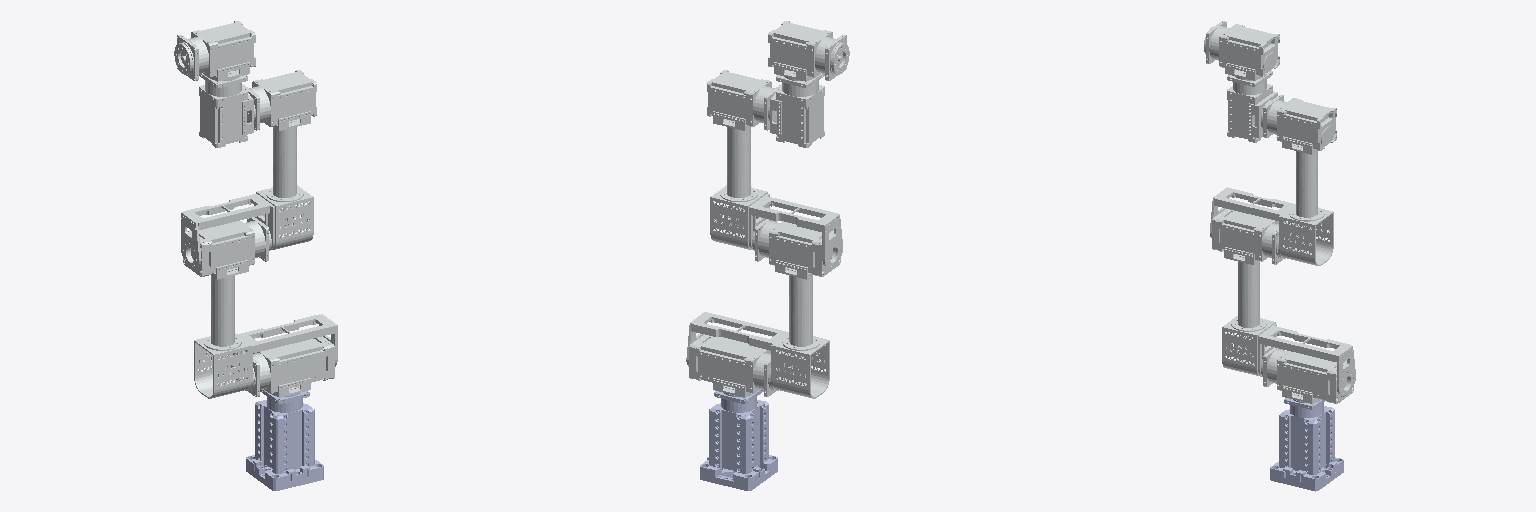
URDF robot description (single_arm_v11):
<?xml version="1.0"?>
<!-- This URDF was automatically created by SolidWorks to URDF Exporter! Originally created by [author] ([email redacted]) 
     Commit Version: 1.6.0-4-g7f85cfe  Build Version: 1.6.7995.38578
     For more information, please see http://wiki.ros.org/sw_urdf_exporter -->
<robot
  name="single_arm_v11">
  <link
    name="base_link">
    <inertial>
      <origin
        xyz="-0.00015625 -0.00020296 0.054397"
        rpy="0 0 0" />
      <mass
        value="0.47711" />
      <inertia
        ixx="0.00059036"
        ixy="3.555E-10"
        ixz="-4.1821E-06"
        iyy="0.00058997"
        iyz="-9.8398E-08"
        izz="0.00022102" />
    </inertial>
    <visual>
      <origin
        xyz="0 0 0"
        rpy="0 0 0" />
      <geometry>
        <mesh
          filename="package://single_arm_v11/single_arm_v11_description/meshes/base_link.STL" />
      </geometry>
      <material
        name="">
        <color
          rgba="0.79216 0.81961 0.93333 1" />
      </material>
    </visual>
    <collision>
      <origin
        xyz="0 0 0"
        rpy="0 0 0" />
      <geometry>
        <mesh
          filename="package://single_arm_v11/single_arm_v11_description/meshes/base_link.STL" />
      </geometry>
    </collision>
  </link>
  <link
    name="Link1">
    <inertial>
      <origin
        xyz="3.4484E-06 -0.00039863 -0.028769"
        rpy="0 0 0" />
      <mass
        value="0.38613" />
      <inertia
        ixx="0.00047431"
        ixy="7.0827E-08"
        ixz="3.5556E-10"
        iyy="0.00017465"
        iyz="4.1821E-06"
        izz="0.00048907" />
    </inertial>
    <visual>
      <origin
        xyz="0 0 0"
        rpy="0 0 0" />
      <geometry>
        <mesh
          filename="package://single_arm_v11/single_arm_v11_description/meshes/Link1.STL" />
      </geometry>
      <material
        name="">
        <color
          rgba="0.89804 0.91765 0.92941 1" />
      </material>
    </visual>
    <collision>
      <origin
        xyz="0 0 0"
        rpy="0 0 0" />
      <geometry>
        <mesh
          filename="package://single_arm_v11/single_arm_v11_description/meshes/Link1.STL" />
      </geometry>
    </collision>
  </link>
  <joint
    name="Joint1"
    type="revolute">
    <origin
      xyz="0 0 0.1345"
      rpy="-3.1416 0 -1.5708" />
    <parent
      link="base_link" />
    <child
      link="Link1" />
    <axis
      xyz="0 0 -1" />
    <limit
      lower="-3.14"
      upper="3.14"
      effort="0"
      velocity="0" />
  </joint>
  <link
    name="Link2">
    <inertial>
      <origin
        xyz="0.13947 0.00058219 -0.0074566"
        rpy="0 0 0" />
      <mass
        value="0.58825" />
      <inertia
        ixx="0.00057122"
        ixy="-1.1203E-06"
        ixz="-3.5733E-06"
        iyy="0.0006232"
        iyz="-8.2912E-08"
        izz="0.00038379" />
    </inertial>
    <visual>
      <origin
        xyz="0 0 0"
        rpy="0 0 0" />
      <geometry>
        <mesh
          filename="package://single_arm_v11/single_arm_v11_description/meshes/Link2.STL" />
      </geometry>
      <material
        name="">
        <color
          rgba="0.89804 0.91765 0.92941 1" />
      </material>
    </visual>
    <collision>
      <origin
        xyz="0 0 0"
        rpy="0 0 0" />
      <geometry>
        <mesh
          filename="package://single_arm_v11/single_arm_v11_description/meshes/Link2.STL" />
      </geometry>
    </collision>
  </link>
  <joint
    name="Joint2"
    type="revolute">
    <origin
      xyz="0 0.0695 -0.0315"
      rpy="1.5708 1.5708 0" />
    <parent
      link="Link1" />
    <child
      link="Link2" />
    <axis
      xyz="0 0 1" />
    <limit
      lower="-3.14"
      upper="3.14"
      effort="0"
      velocity="0" />
  </joint>
  <link
    name="Link3">
    <inertial>
      <origin
        xyz="0.13622 -0.00047472 0.0063718"
        rpy="0 0 0" />
      <mass
        value="0.55444" />
      <inertia
        ixx="0.00052289"
        ixy="8.7953E-07"
        ixz="3.5629E-06"
        iyy="0.00057711"
        iyz="-8.2898E-08"
        izz="0.00036757" />
    </inertial>
    <visual>
      <origin
        xyz="0 0 0"
        rpy="0 0 0" />
      <geometry>
        <mesh
          filename="package://single_arm_v11/single_arm_v11_description/meshes/Link3.STL" />
      </geometry>
      <material
        name="">
        <color
          rgba="0.89804 0.91765 0.92941 1" />
      </material>
    </visual>
    <collision>
      <origin
        xyz="0 0 0"
        rpy="0 0 0" />
      <geometry>
        <mesh
          filename="package://single_arm_v11/single_arm_v11_description/meshes/Link3.STL" />
      </geometry>
    </collision>
  </link>
  <joint
    name="Joint3"
    type="revolute">
    <origin
      xyz="0.214 0 0.0345"
      rpy="0 0 0" />
    <parent
      link="Link2" />
    <child
      link="Link3" />
    <axis
      xyz="0 0 -1" />
    <limit
      lower="-3.14"
      upper="3.14"
      effort="0"
      velocity="0" />
  </joint>
  <link
    name="Link4">
    <inertial>
      <origin
        xyz="4.83814377449931E-15 0.0124471610012715 -0.0319494763505741"
        rpy="0 0 0" />
      <mass
        value="0.313854171959485" />
      <inertia
        ixx="0.00030905374217572"
        ixy="1.62700962442E-20"
        ixz="2.09983644469817E-19"
        iyy="0.000138417182248756"
        iyz="3.51429818496665E-06"
        izz="0.000324741574348904" />
    </inertial>
    <visual>
      <origin
        xyz="0 0 0"
        rpy="0 0 0" />
      <geometry>
        <mesh
          filename="package://single_arm_v11/single_arm_v11_description/meshes/Link4.STL" />
      </geometry>
      <material
        name="">
        <color
          rgba="0.898039215686275 0.917647058823529 0.929411764705882 1" />
      </material>
    </visual>
    <collision>
      <origin
        xyz="0 0 0"
        rpy="0 0 0" />
      <geometry>
        <mesh
          filename="package://single_arm_v11/single_arm_v11_description/meshes/Link4.STL" />
      </geometry>
    </collision>
  </link>
  <joint
    name="Joint4"
    type="revolute">
    <origin
      xyz="0.214 0 -0.0321"
      rpy="0 0 -1.5708" />
    <parent
      link="Link3" />
    <child
      link="Link4" />
    <axis
      xyz="0 0 1" />
    <limit
      lower="-3.14"
      upper="3.14"
      effort="0"
      velocity="0" />
  </joint>
  <link
    name="Link5">
    <inertial>
      <origin
        xyz="-8.71178129635553E-15 0.0124471610012712 -0.0319494763505744"
        rpy="0 0 0" />
      <mass
        value="0.313854171959485" />
      <inertia
        ixx="0.00030905374217572"
        ixy="2.20240357597189E-20"
        ixz="1.70643067941476E-20"
        iyy="0.000138417182248756"
        iyz="3.51429818496703E-06"
        izz="0.000324741574348904" />
    </inertial>
    <visual>
      <origin
        xyz="0 0 0"
        rpy="0 0 0" />
      <geometry>
        <mesh
          filename="package://single_arm_v11/single_arm_v11_description/meshes/Link5.STL" />
      </geometry>
      <material
        name="">
        <color
          rgba="0.898039215686275 0.917647058823529 0.929411764705882 1" />
      </material>
    </visual>
    <collision>
      <origin
        xyz="0 0 0"
        rpy="0 0 0" />
      <geometry>
        <mesh
          filename="package://single_arm_v11/single_arm_v11_description/meshes/Link5.STL" />
      </geometry>
    </collision>
  </link>
  <joint
    name="Joint5"
    type="revolute">
    <origin
      xyz="0 0.0671 -0.036"
      rpy="-1.5708 0 -3.1416" />
    <parent
      link="Link4" />
    <child
      link="Link5" />
    <axis
      xyz="0 0 1" />
    <limit
      lower="-3.14"
      upper="3.14"
      effort="0"
      velocity="0" />
  </joint>
  <link
    name="Link6">
    <inertial>
      <origin
        xyz="3.28966953833032E-05 -0.311761303173634 -0.12146386078719"
        rpy="0 0 0" />
      <mass
        value="5.52667031461374" />
      <inertia
        ixx="0.325455467014091"
        ixy="0.000107387844284919"
        ixz="4.23563408960176E-05"
        iyy="0.0196746763653344"
        iyz="-0.0445528342714575"
        izz="0.308584695412345" />
    </inertial>
    <visual>
      <origin
        xyz="0 0 0"
        rpy="0 0 0" />
      <geometry>
        <mesh
          filename="package://single_arm_v11/single_arm_v11_description/meshes/Link6.STL" />
      </geometry>
      <material
        name="">
        <color
          rgba="1 1 1 1" />
      </material>
    </visual>
    <collision>
      <origin
        xyz="0 0 0"
        rpy="0 0 0" />
      <geometry>
        <mesh
          filename="package://single_arm_v11/single_arm_v11_description/meshes/Link6.STL" />
      </geometry>
    </collision>
  </link>
  <joint
    name="Joint6"
    type="revolute">
    <origin
      xyz="0 0.069 -0.036"
      rpy="-1.5708 0 0" />
    <parent
      link="Link5" />
    <child
      link="Link6" />
    <axis
      xyz="0 0 1" />
    <limit
      lower="-3.14"
      upper="3.14"
      effort="0"
      velocity="0" />
  </joint>
</robot>

--- What the picture shows (computed from the rendered views, not written in the file) ---
The picture shows the robot from 3 angles, left to right: view 1: azimuth 30°, elevation 25°; view 2: azimuth 150°, elevation 25°; view 3: azimuth 330°, elevation 25°; orthographic projection.
Robot: single_arm_v11 — 7 links, 6 joints (6 revolute); root link base_link; default pose: every joint at zero.
Visible links, largest first — view 1: Link2, Link3, base_link, Link1, Link5, Link4; view 2: Link2, Link3, base_link, Link1, Link5, Link4; view 3: Link3, Link2, base_link, Link1, Link5, Link4.
Boxes of the visible links, x1,y1,x2,y2 form: Link2: [183, 217, 337, 398]; Link3: [181, 70, 316, 267]; base_link: [246, 389, 323, 490]; Link1: [243, 336, 334, 397]; Link5: [174, 21, 255, 81]; Link4: [199, 73, 254, 147]; Link2: [686, 219, 840, 398]; Link3: [707, 70, 842, 267]; base_link: [700, 389, 777, 490]; Link1: [689, 334, 783, 397]; Link5: [768, 21, 849, 81]; Link4: [769, 73, 824, 147]; Link3: [1210, 95, 1336, 265]; Link2: [1212, 209, 1355, 394]; base_link: [1270, 398, 1343, 491]; Link1: [1261, 347, 1353, 403]; Link5: [1204, 21, 1279, 80]; Link4: [1227, 71, 1277, 142].
Bounding box of the posed robot: 0.2451 × 0.086 × 0.7341 m (x, y, z).
Meshes: 7 distinct files referenced, 6 mesh visuals loaded (6 binary STL); not drawn: 1 (reference not matched to a file when rendering).